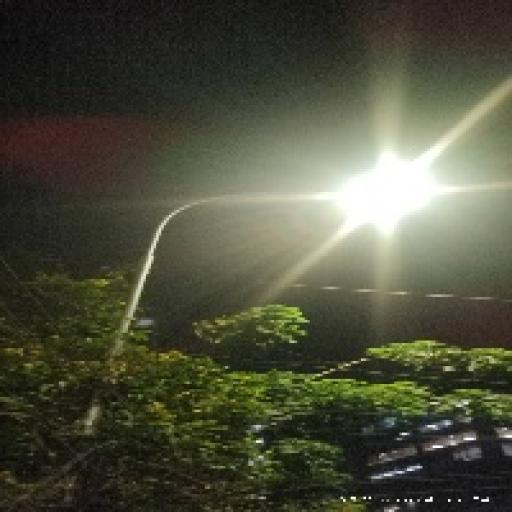Working: (325, 142, 453, 241)
